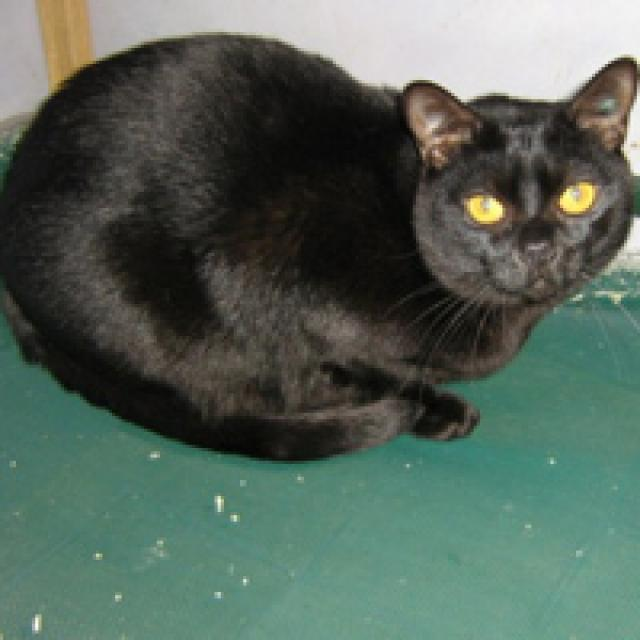Bombay: (397, 57, 640, 333)
